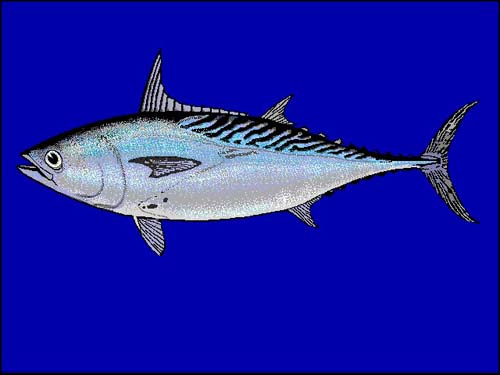fish: (17, 48, 482, 259)
